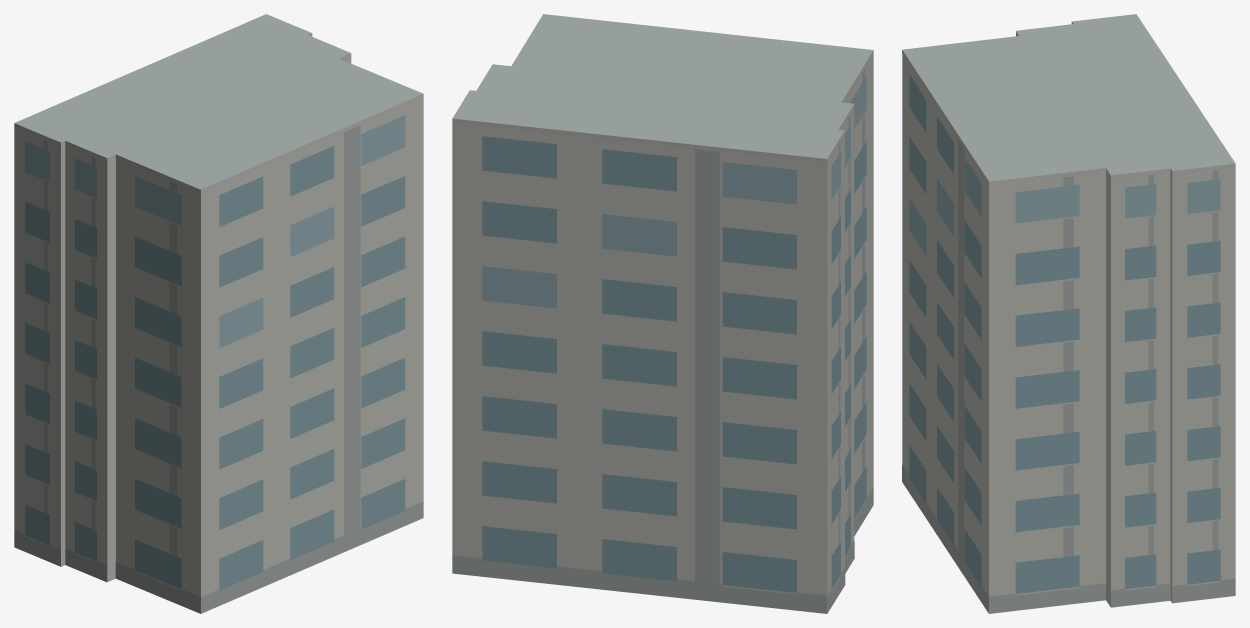
Rendered from survey-upis-32991459.glb.
The picture shows the model from 3 angles, left to right: view 1: azimuth 30°, elevation 25°; view 2: azimuth 150°, elevation 25°; view 3: azimuth 270°, elevation 25°; orthographic projection. The views are drawn at different scales.
Visible parts, largest first — view 1: survey-upis-32991459.tmp; view 2: survey-upis-32991459.tmp; view 3: survey-upis-32991459.tmp.
Boxes of the visible parts, box(x1,y1,x2,y2) form: survey-upis-32991459.tmp: box(14, 14, 423, 613); survey-upis-32991459.tmp: box(452, 14, 873, 613); survey-upis-32991459.tmp: box(902, 14, 1235, 613).
Size of the model in its own units: 19.64 by 23.6 by 16.51.
